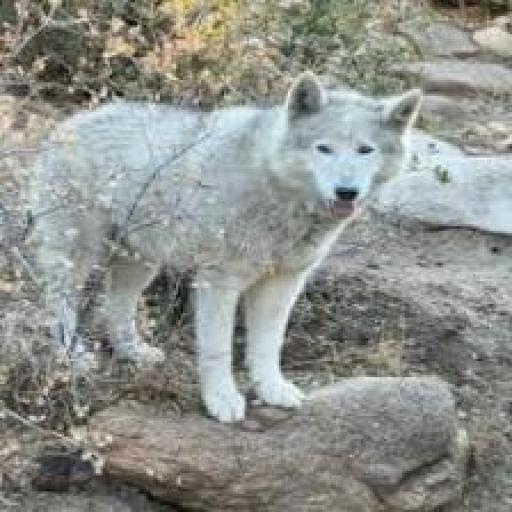wolf: (23, 71, 432, 423)
